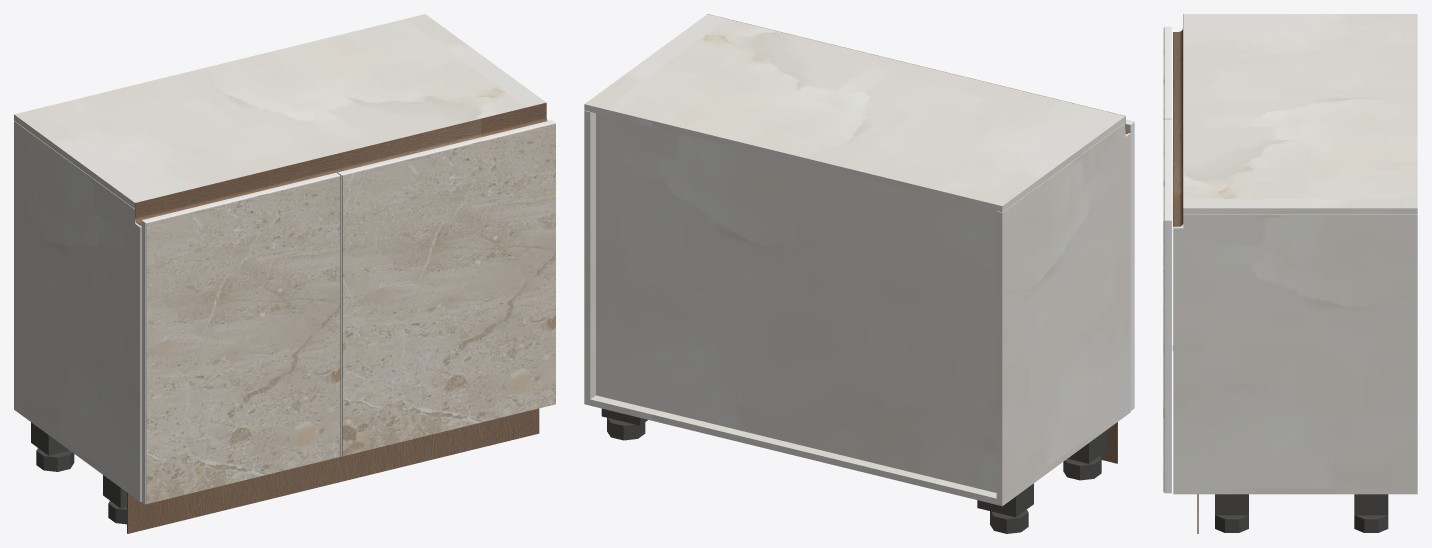
The model's file is S550_BBC1S1HS_LH_CJ (H720xW1050xD560).glb.
3 views of the same model, side by side, from view 1: azimuth 30°, elevation 25°; view 2: azimuth 150°, elevation 25°; view 3: azimuth 270°, elevation 25° (orthographic). The views are drawn at different scales.
Size of what is drawn, in the model's own units: 1.05 by 0.82 by 0.5809.
6 materials, 3 textured.
